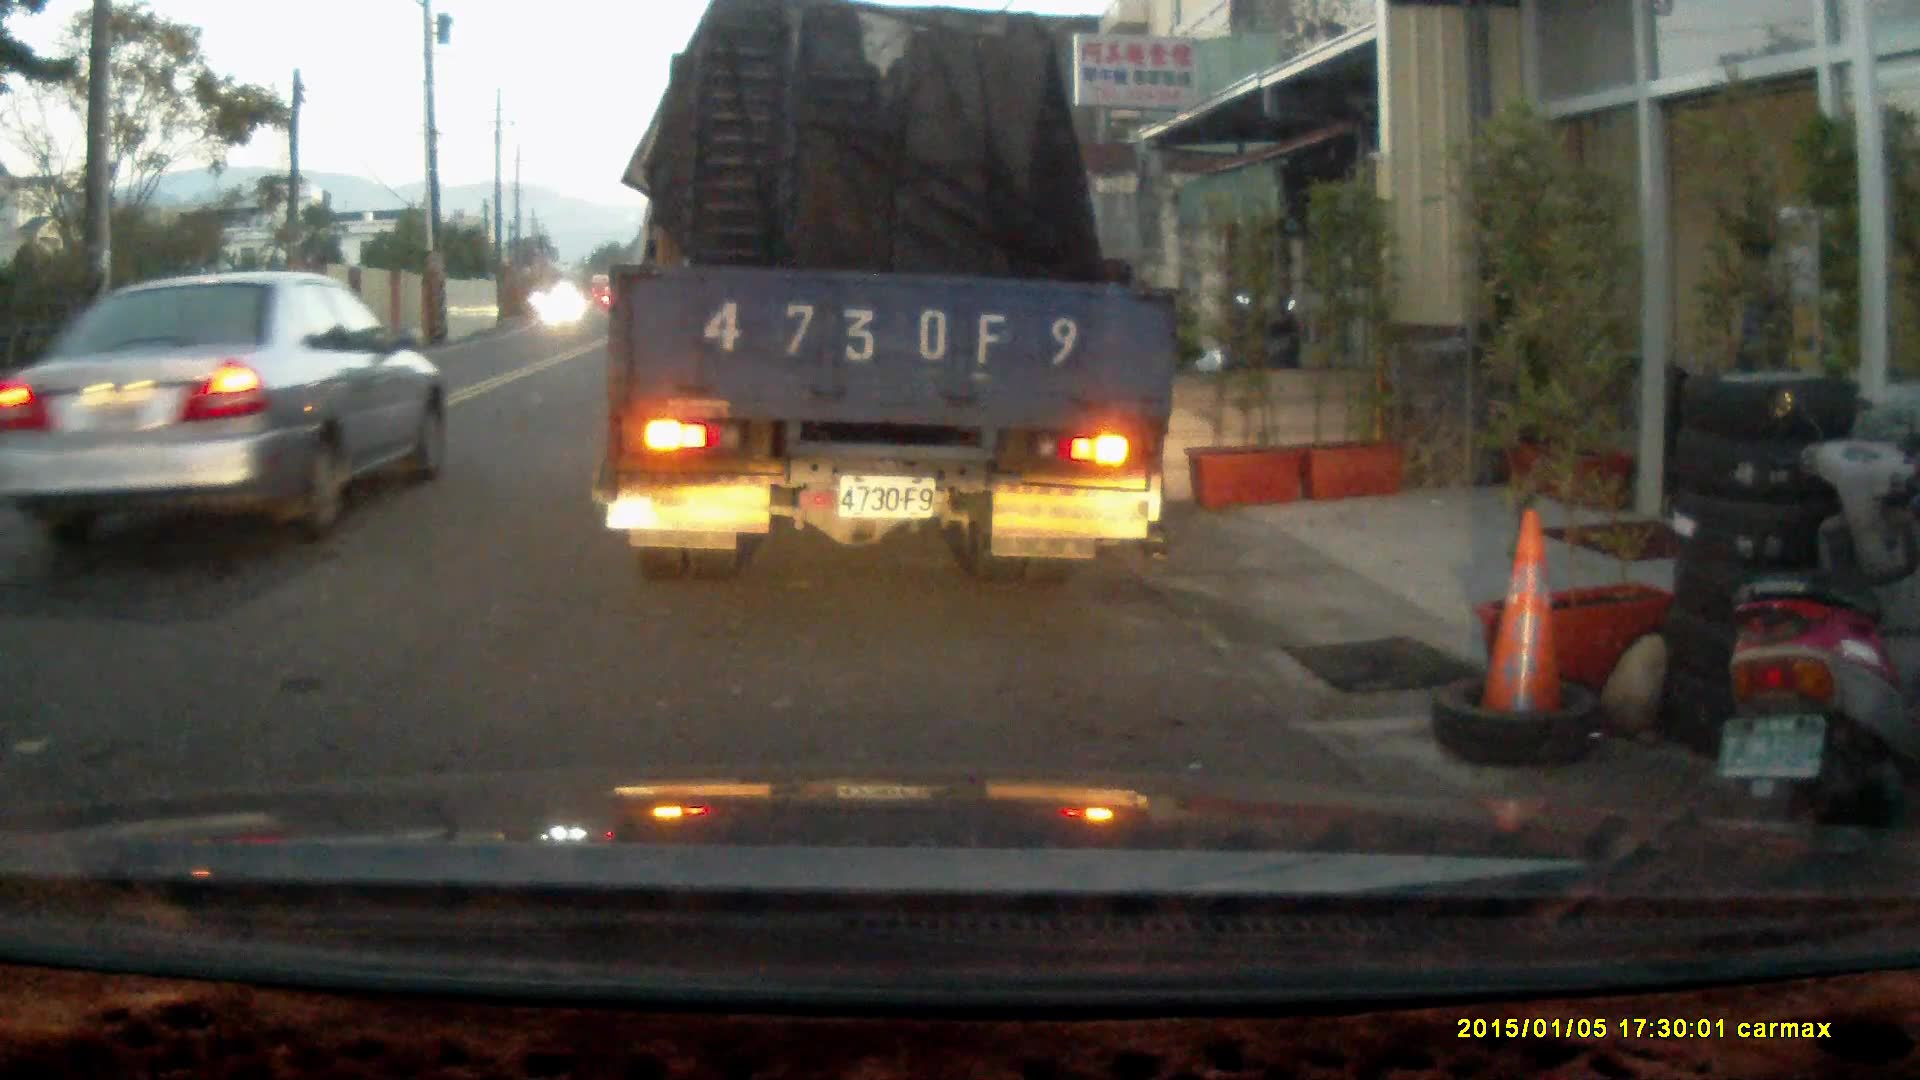pedestrian: (1717, 226, 1805, 476)
vehicle: (605, 23, 1188, 572), (2, 271, 452, 545)
